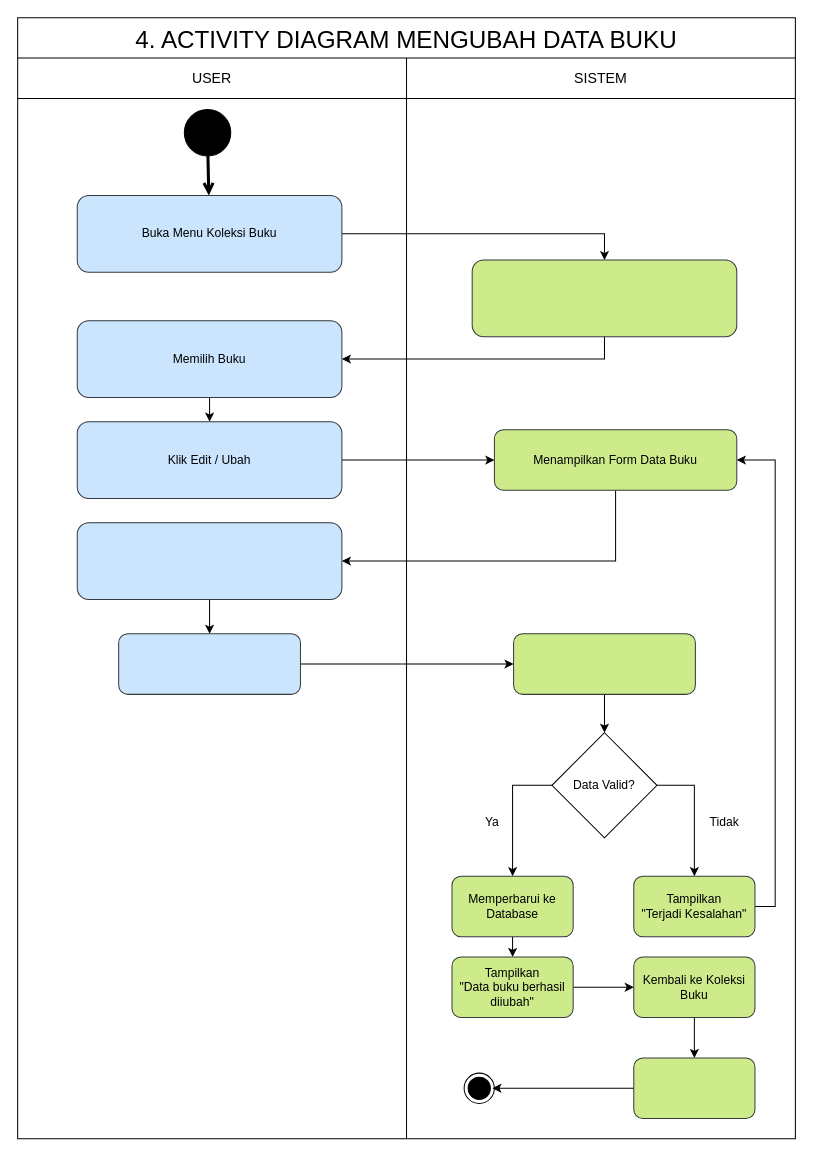
Some shapes in this 813 by 1156 pixel diagram are drawn without their labels. The shapes that lost their labels are listed below. From the top down, each one's centre as x and y in pixels, then its label:
At [604,298]: "Menampilkan Daftar Buku".
At [209,560]: "Mengubah Judul / Penulis / Kategori / Jumlah halaman / Tanggal mulai membaca".
At [209,663]: "Klik Simpan Perubahan".
At [604,663]: "Validasi Data".
At [694,1088]: "Tampilkan data buku yang telah diperbarui".
